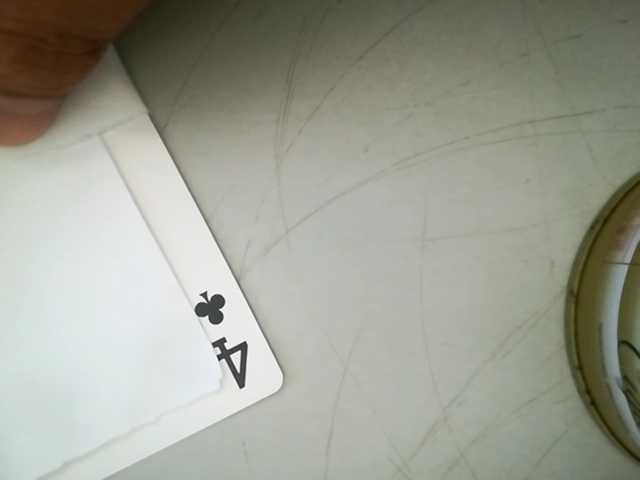mh 4: (180, 276, 266, 396)
